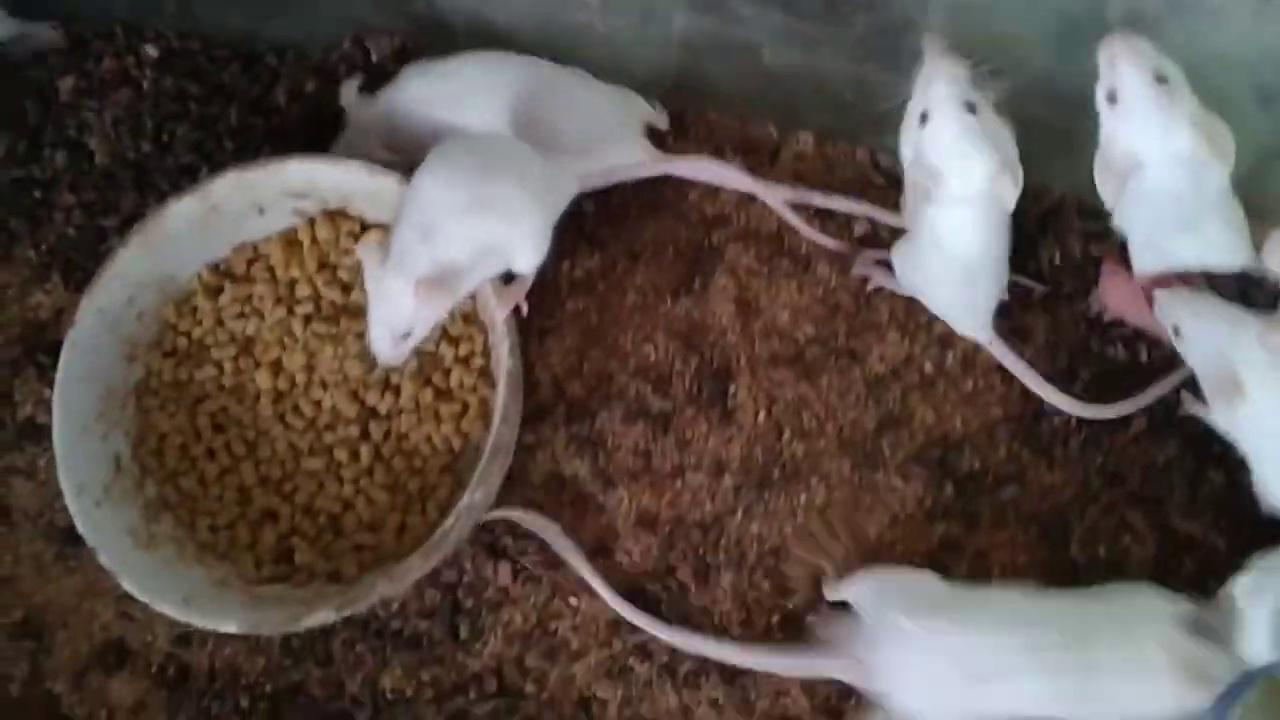rat: (482, 503, 1251, 720), (855, 47, 1191, 418), (359, 134, 890, 367), (332, 50, 856, 251), (1095, 29, 1261, 270), (1155, 280, 1280, 516)
